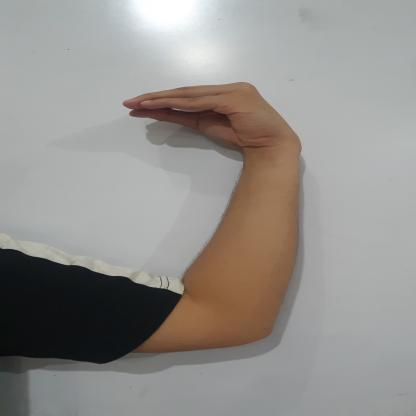Malam: (118, 80, 336, 170)
